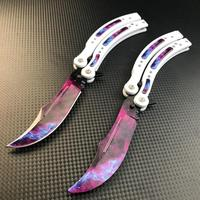knife: (5, 10, 174, 196)
